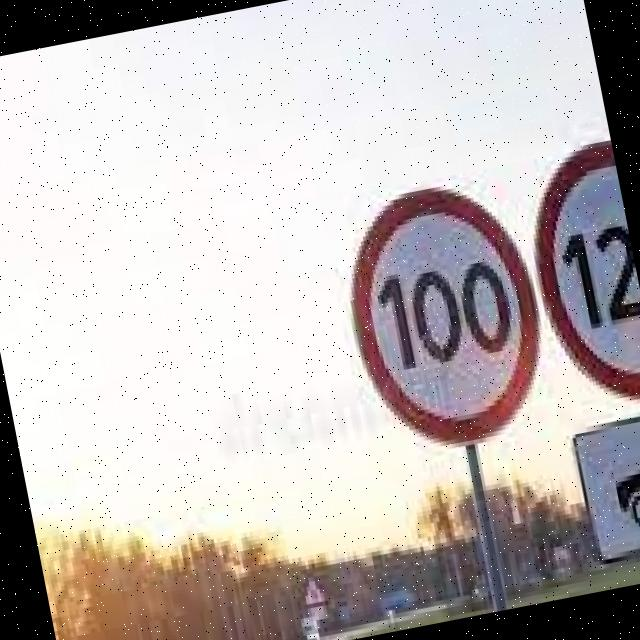speed_limit_100: (317, 163, 558, 463)
speed_limit_120: (509, 127, 640, 414)
